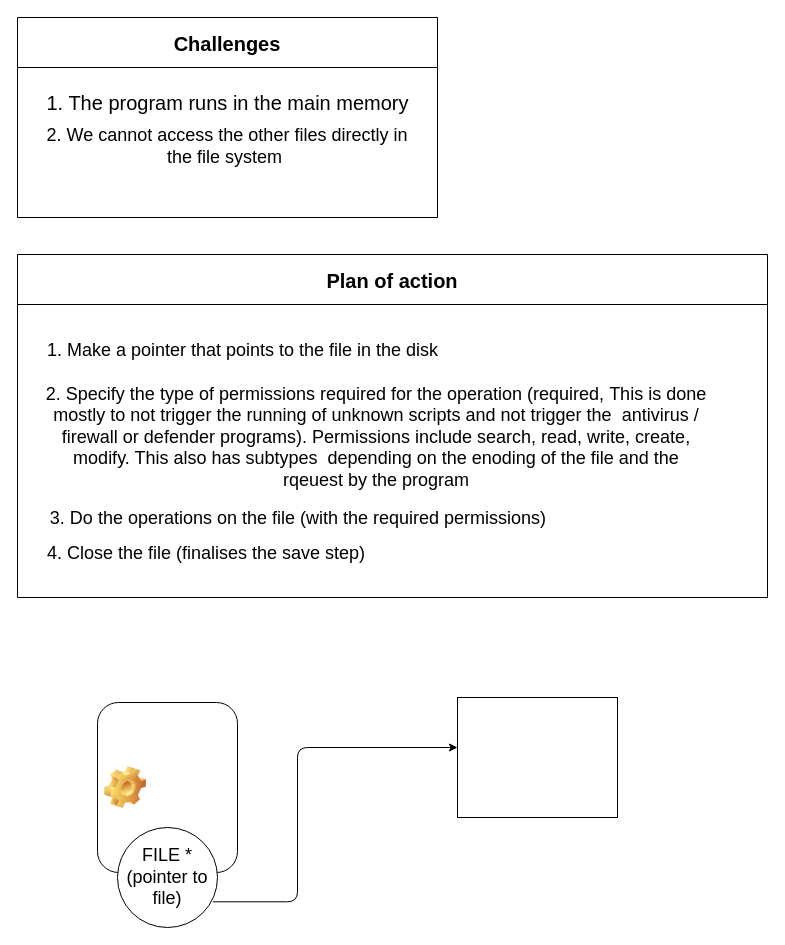
Image size: 785x945. Some labels were removed from this diagram. The centre of each missing label's shape, as x and y in pixels:
"FILE in some secondary storage device" goes at (537,757).
"Program during runtime" goes at (167,787).
